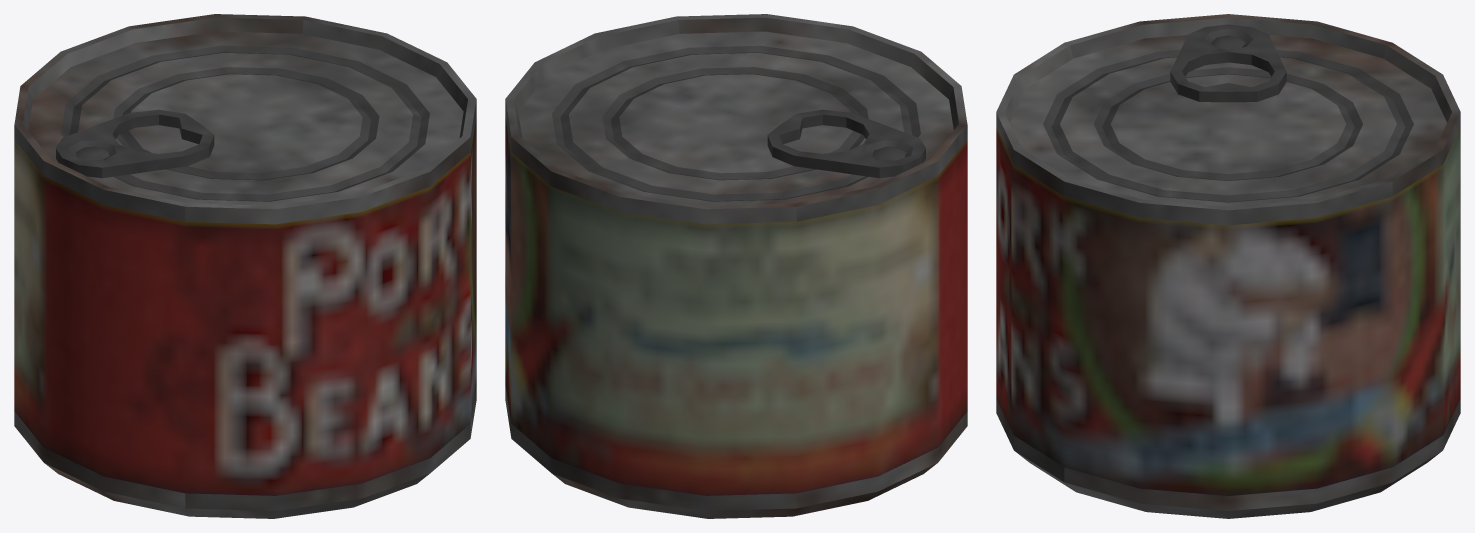
File: canned_food_4.obj
The picture shows the model from 3 angles, left to right: view 1: azimuth 30°, elevation 25°; view 2: azimuth 150°, elevation 25°; view 3: azimuth 270°, elevation 25°; orthographic projection.
Visible parts, largest first — view 1: canned_food_4; view 2: canned_food_4; view 3: canned_food_4.
Boxes of the visible parts, x1,y1,x2,y2 form: canned_food_4: [14, 14, 476, 518]; canned_food_4: [505, 14, 967, 518]; canned_food_4: [996, 14, 1460, 518].
Size of the model in its own units: 0.112 by 0.084 by 0.112.
